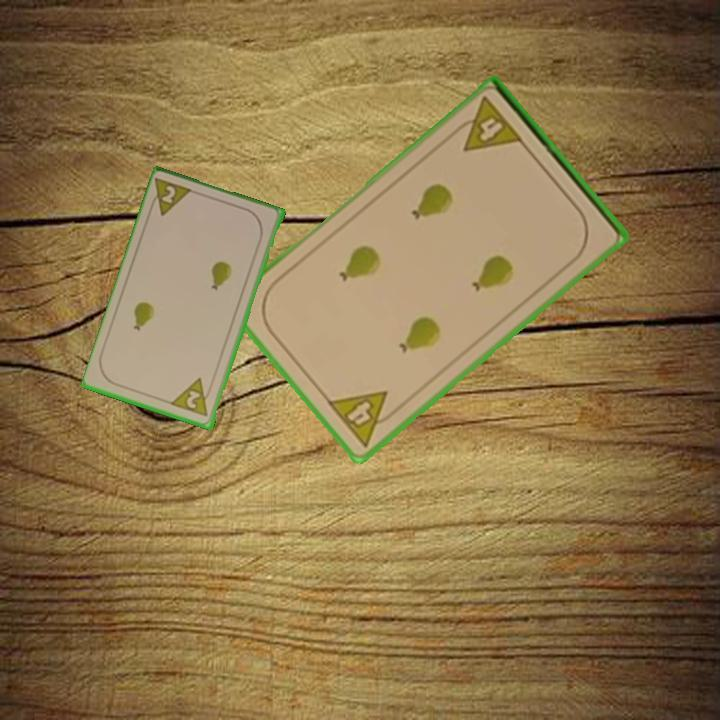2p: (145, 175, 197, 220), (169, 375, 215, 420)
4p: (323, 387, 404, 450), (448, 93, 526, 155)
